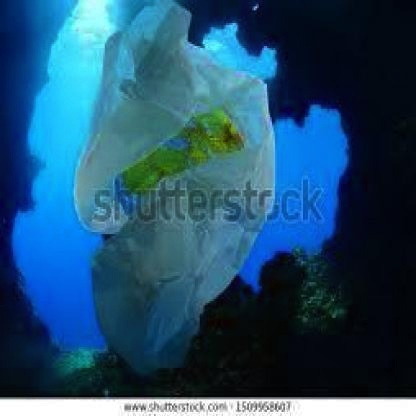pbag: (74, 2, 276, 378)
